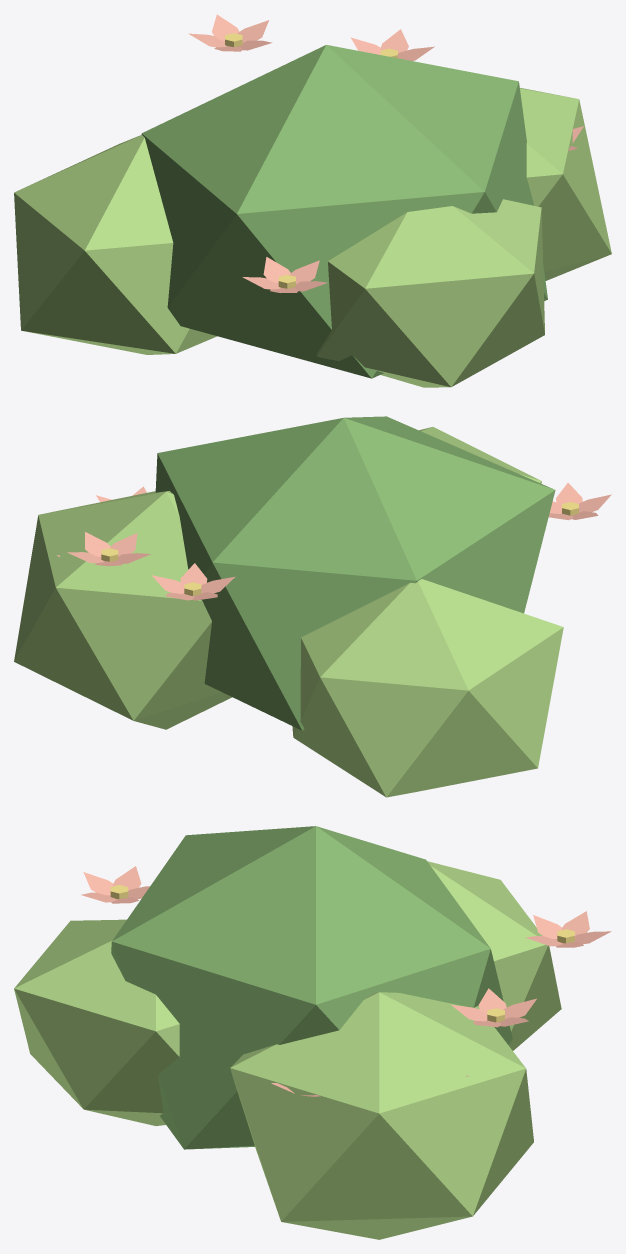
Rendered from Decor_Bush.fbx.
3 renders of one model, top to bottom at view 1: azimuth 30°, elevation 25°; view 2: azimuth 150°, elevation 25°; view 3: azimuth 270°, elevation 25°, orthographic. The views are drawn at different scales.
Visible parts, largest first — view 1: Decor_Bush; view 2: Decor_Bush; view 3: Decor_Bush.
Part boxes in pixels (x1,y1,x2,y2): Decor_Bush: [14, 14, 611, 387]; Decor_Bush: [14, 416, 611, 797]; Decor_Bush: [14, 826, 611, 1239].
Bounding box in the file's own units: 1.48 × 0.8879 × 1.42.
